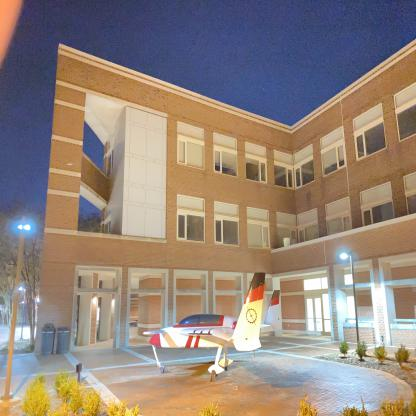eb2: (44, 20, 416, 350)
